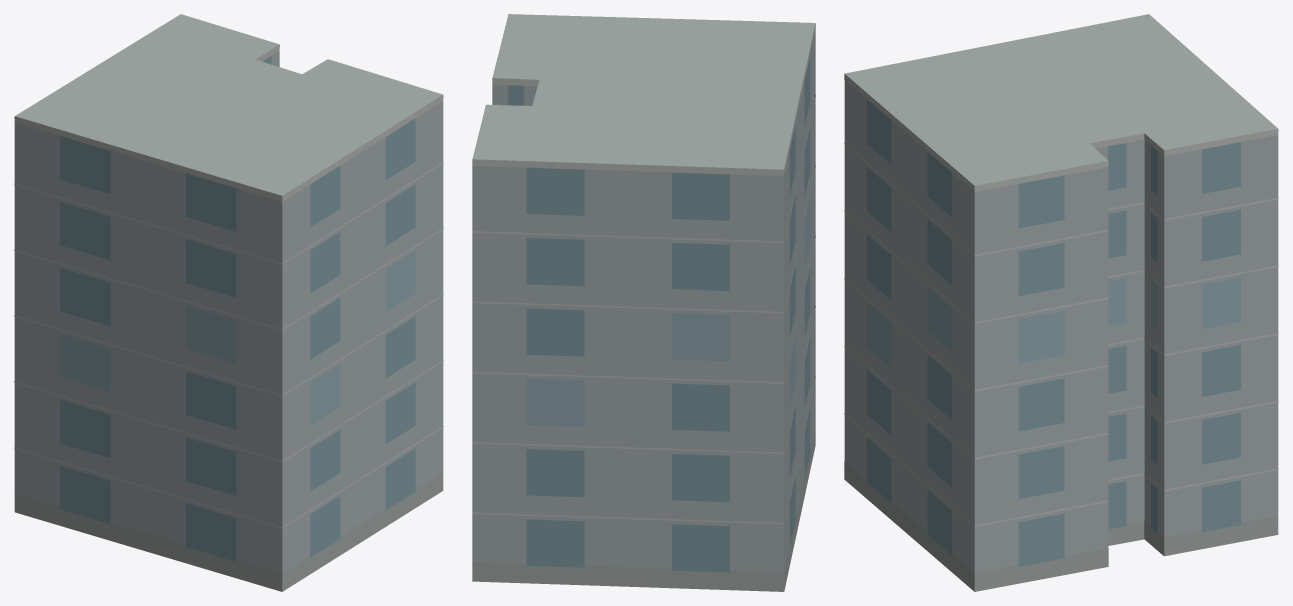
Rendered from survey-upis-32656613.glb.
The picture shows the model from 3 angles, left to right: view 1: azimuth 30°, elevation 25°; view 2: azimuth 150°, elevation 25°; view 3: azimuth 270°, elevation 25°; orthographic projection. The views are drawn at different scales.
Parts seen in each view (by area): view 1: survey-upis-32656613.tmp; view 2: survey-upis-32656613.tmp; view 3: survey-upis-32656613.tmp.
Part boxes in pixels (x1=…): survey-upis-32656613.tmp: x1=14, y1=14, x2=443, y2=591; survey-upis-32656613.tmp: x1=472, y1=14, x2=815, y2=591; survey-upis-32656613.tmp: x1=844, y1=14, x2=1278, y2=591.
Bounding box in the file's own units: 14.42 × 15.85 × 15.38.
